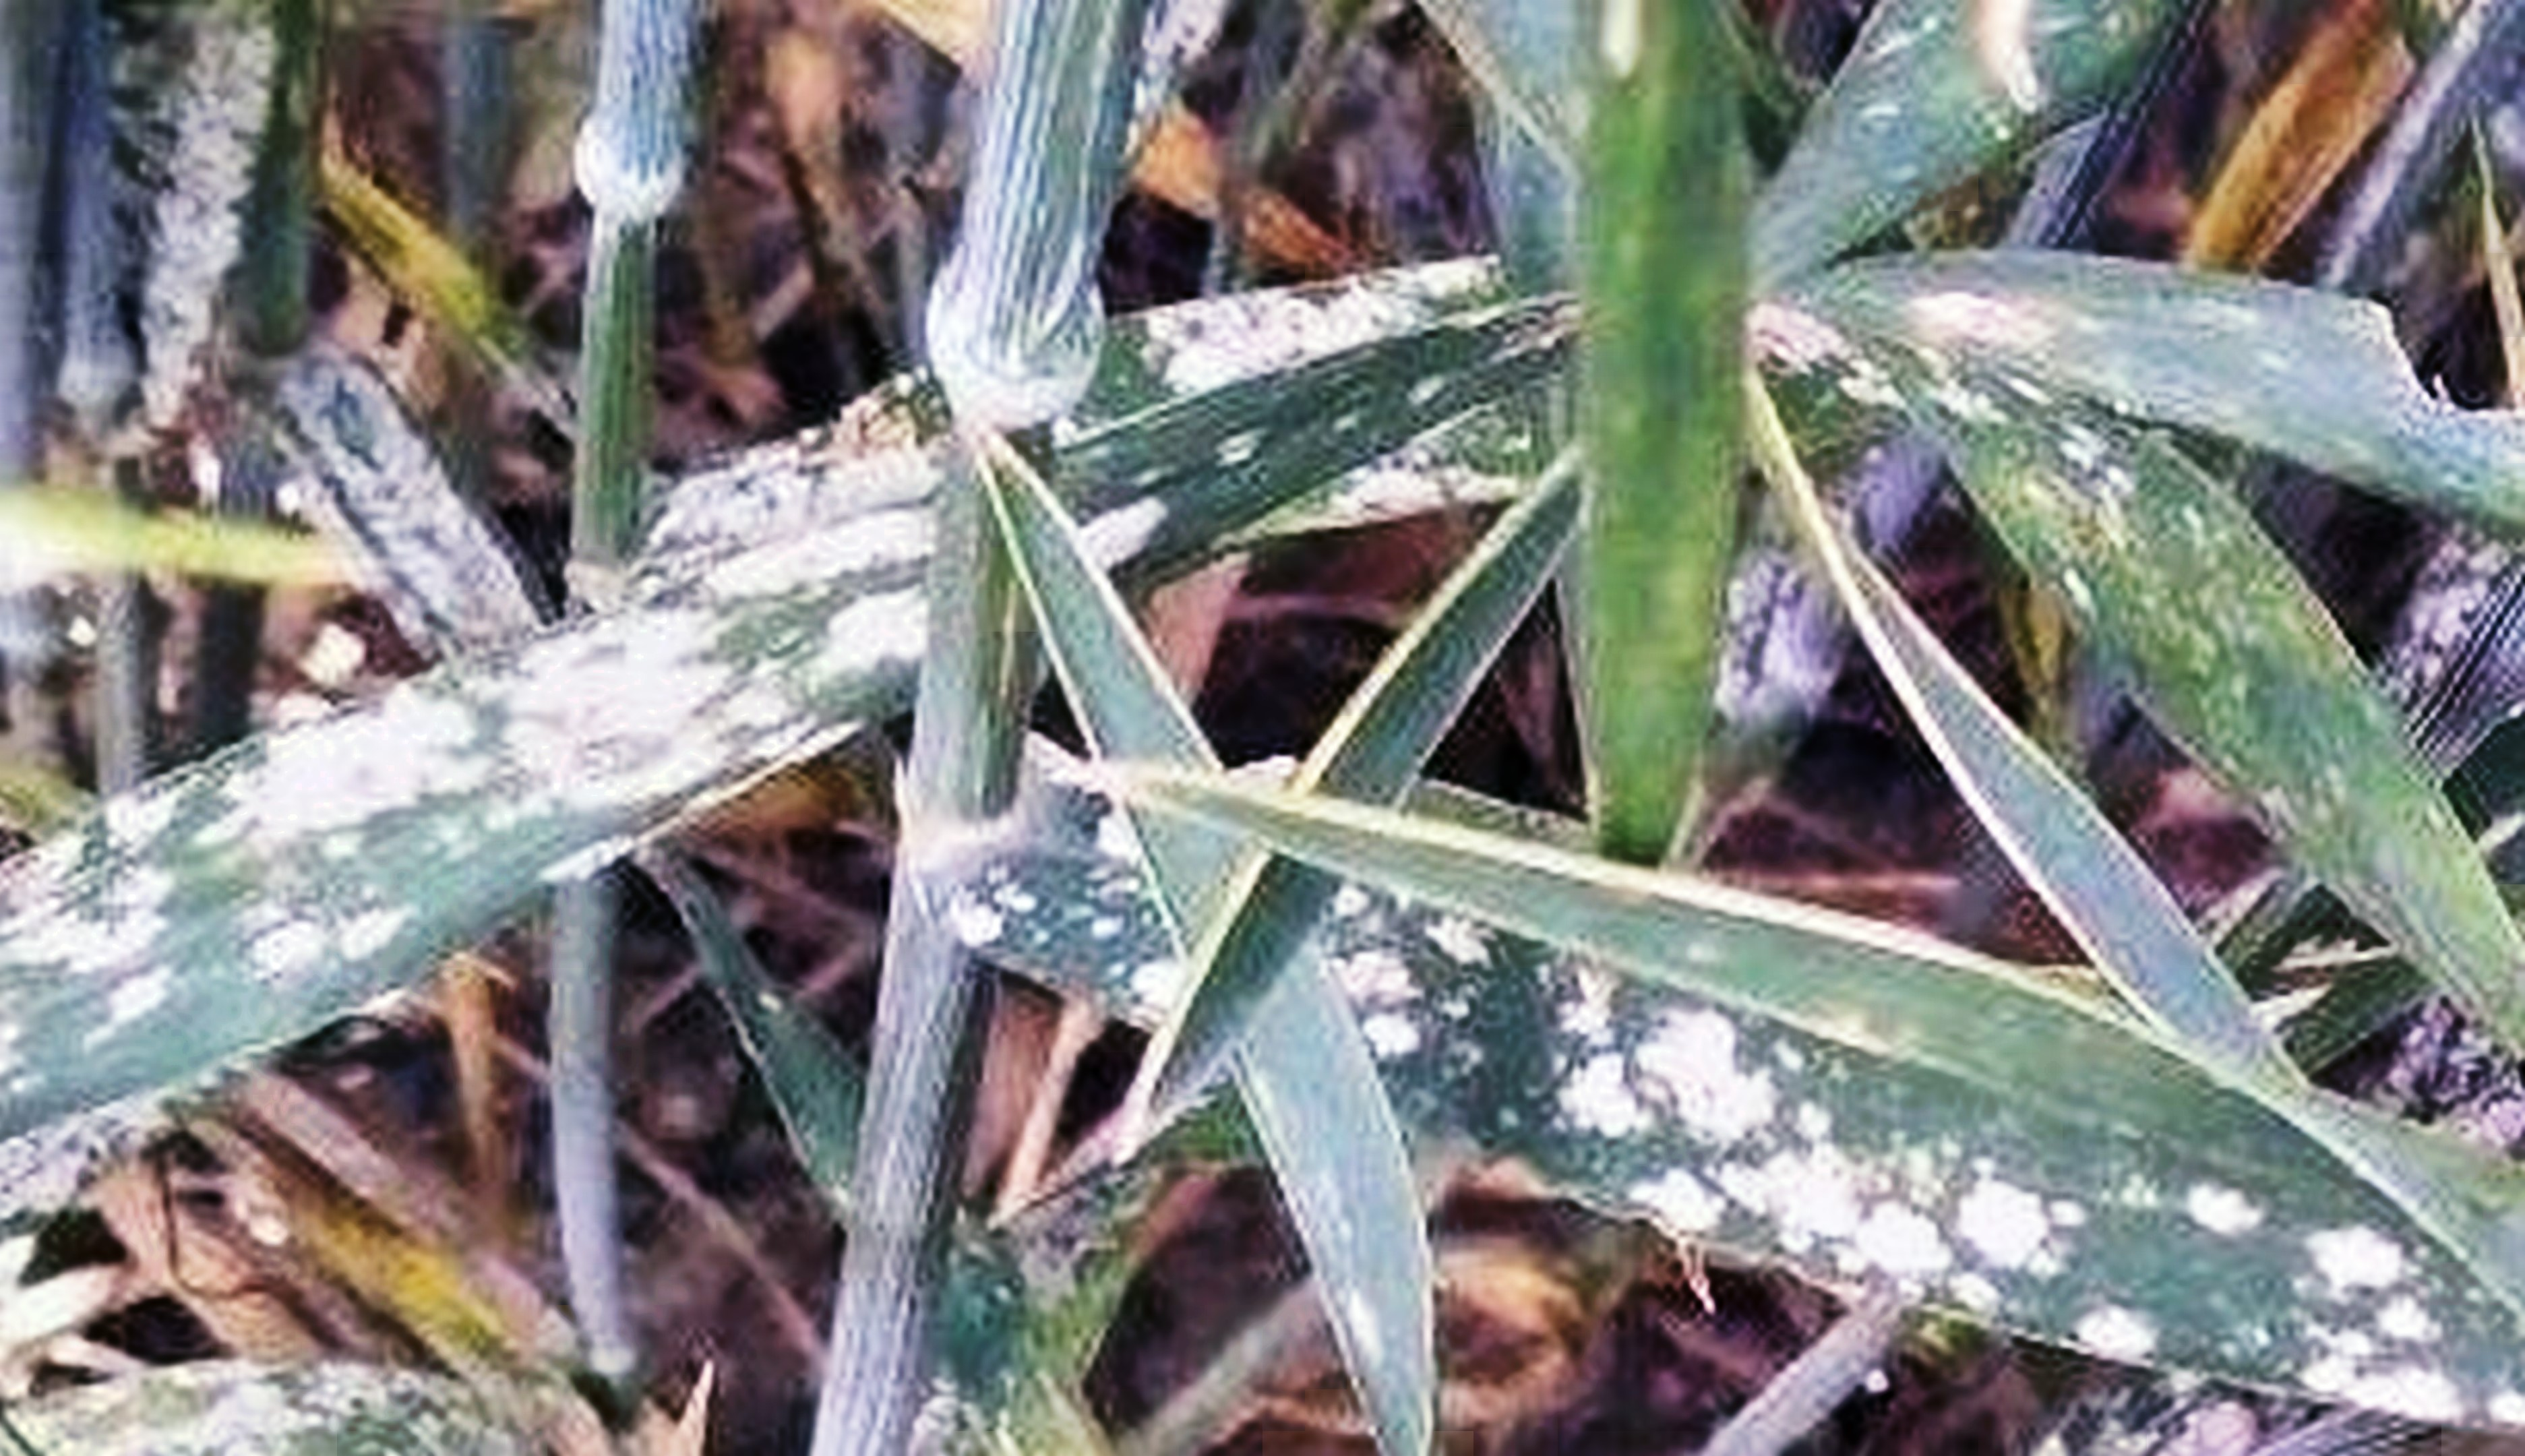Powdery Mildew: (1047, 849, 2159, 1355)
